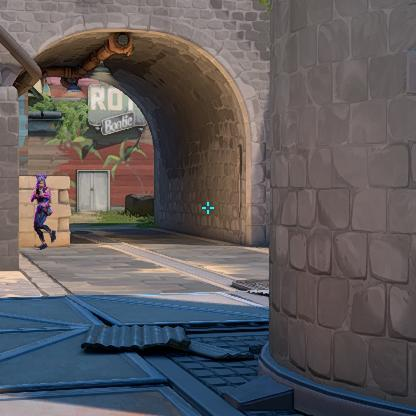enemyBody: (38, 190, 44, 205)
enemyHead: (38, 179, 44, 187)
